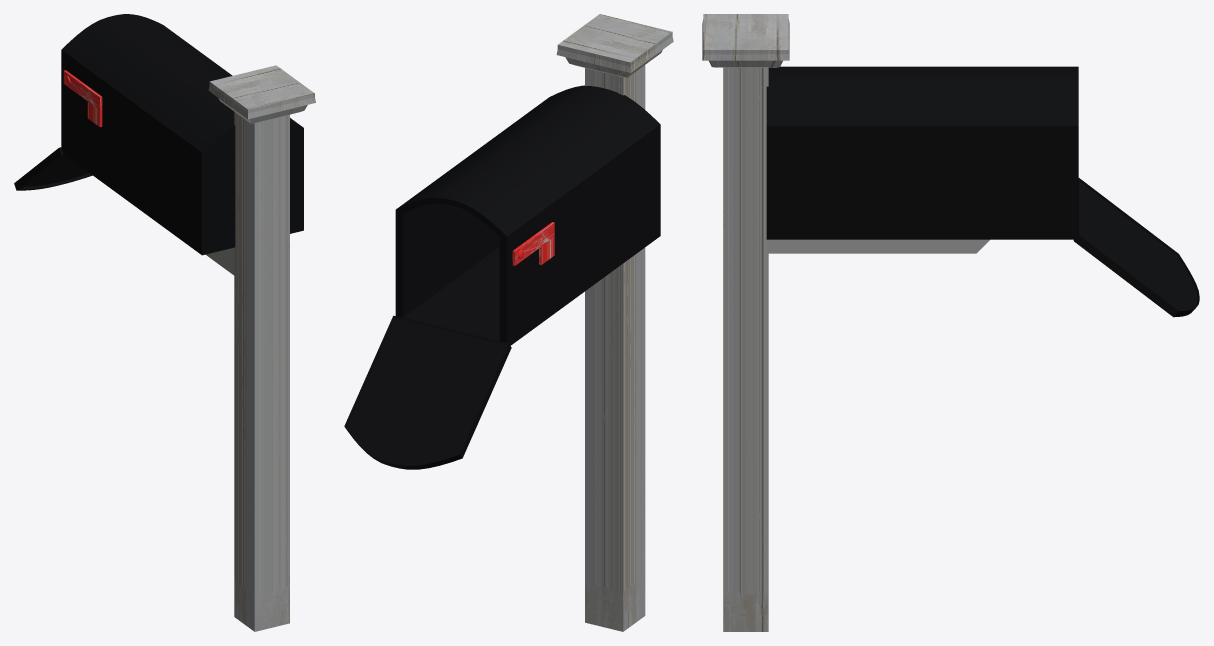
File: Mailbox.glb
3 renders of one model, left to right at view 1: azimuth 30°, elevation 25°; view 2: azimuth 150°, elevation 25°; view 3: azimuth 270°, elevation 25°, orthographic. The views are drawn at different scales.
Parts seen in each view (by area): view 1: Cube.002; view 2: Cube.002; view 3: Cube.002.
Boxes of the visible parts, box(x1,y1,x2,y2) form: Cube.002: box(14, 14, 315, 631); Cube.002: box(344, 14, 673, 631); Cube.002: box(702, 14, 1199, 631).
Size of the model in its own units: 0.861 by 4.04 by 3.09.
Materials: 3 (3 with a texture image).
